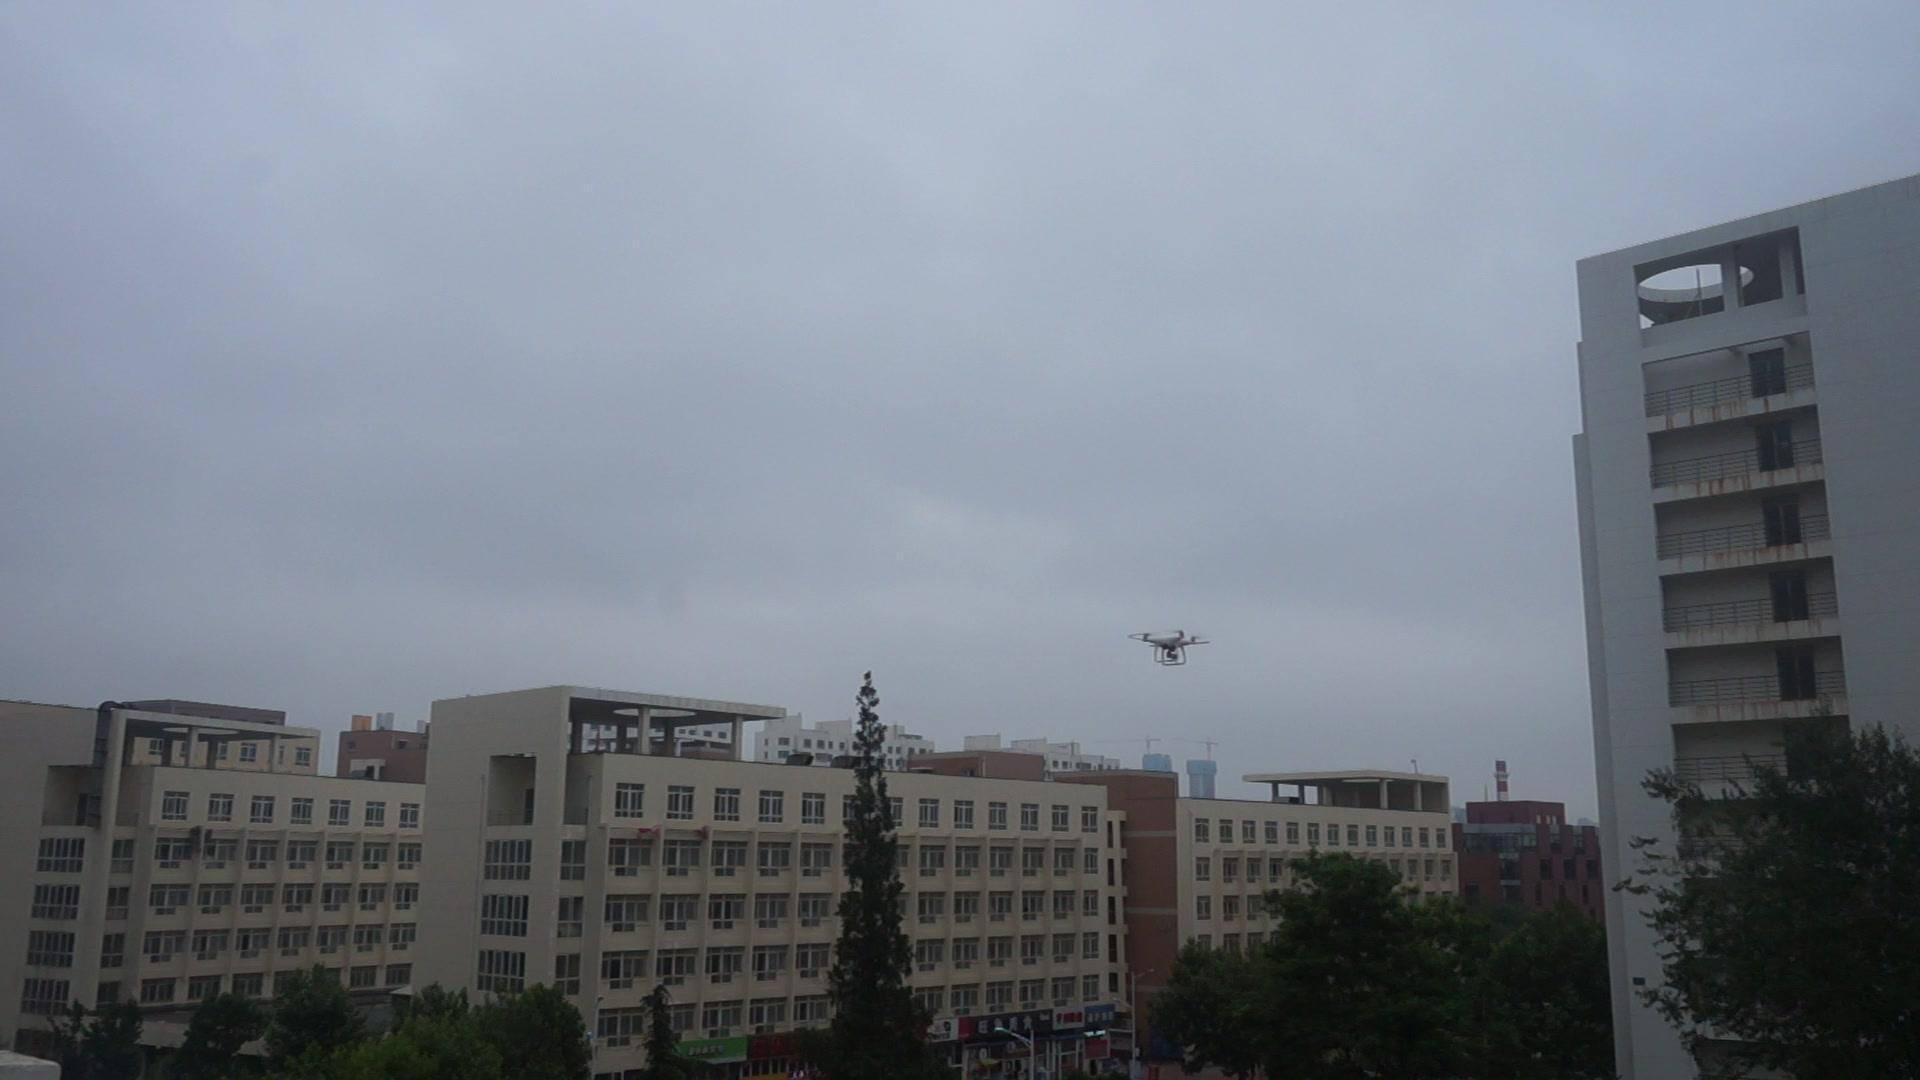UAV: (1127, 630, 1212, 666)
